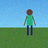person: (24, 9, 35, 35)
